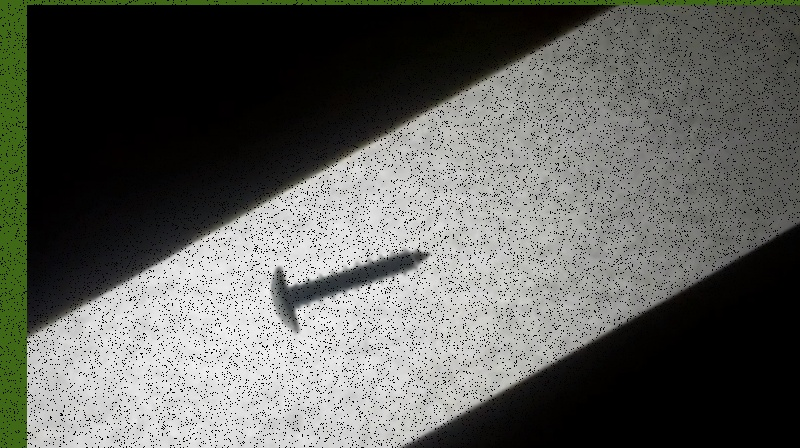S003: (265, 244, 435, 335)
